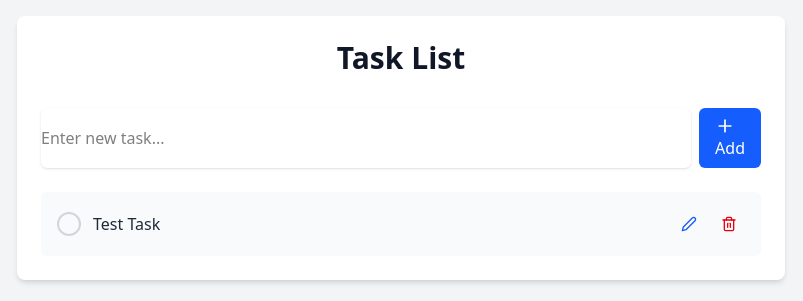
Scenario: Component Renderingt › User Interactions › State Management › edit mode state
Click the button named "edit task" at (689, 224), box x1=673 y1=208 x2=705 y2=240
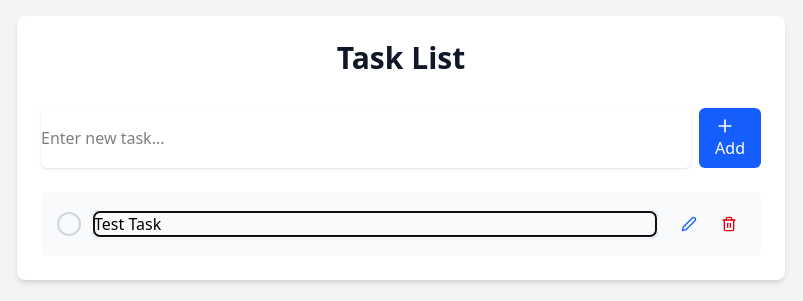
Expected: the field showing "Test Task" is shown, x1=93 y1=211 x2=657 y2=237
